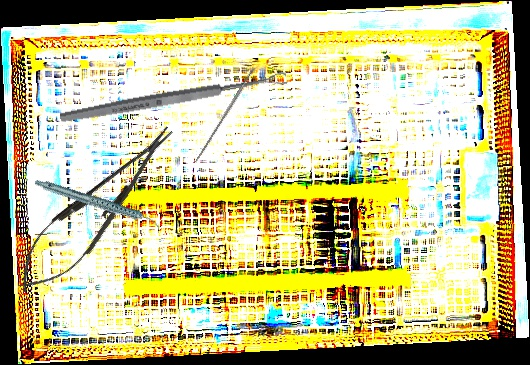Handpiece: (33, 155, 163, 253)
Needle Holder: (2, 111, 190, 308)
Scalpel Handle: (193, 67, 256, 165)
Surgical Spoon: (58, 70, 289, 126)
